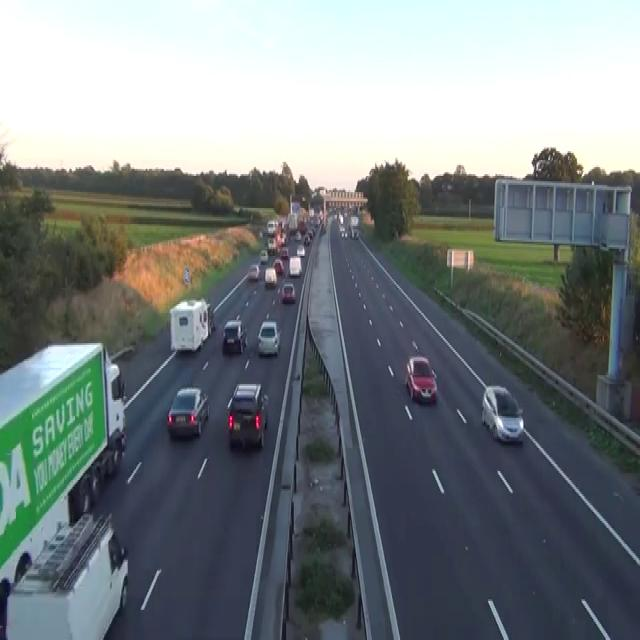Car: (226, 382, 268, 450), (481, 384, 524, 443), (166, 386, 209, 437), (405, 354, 437, 404), (222, 318, 247, 354), (257, 320, 281, 356), (200, 297, 215, 336), (264, 267, 277, 288), (206, 304, 215, 334), (281, 283, 295, 302), (289, 256, 301, 276), (247, 263, 260, 281), (272, 258, 284, 276), (267, 238, 276, 254), (259, 249, 268, 263), (296, 244, 305, 256), (280, 247, 288, 258), (339, 226, 347, 236), (351, 228, 358, 238), (303, 235, 310, 245), (308, 228, 315, 236), (321, 222, 326, 233), (295, 231, 301, 240), (259, 230, 262, 238)
Truck: (0, 340, 127, 599), (4, 510, 128, 638), (169, 297, 215, 352)
